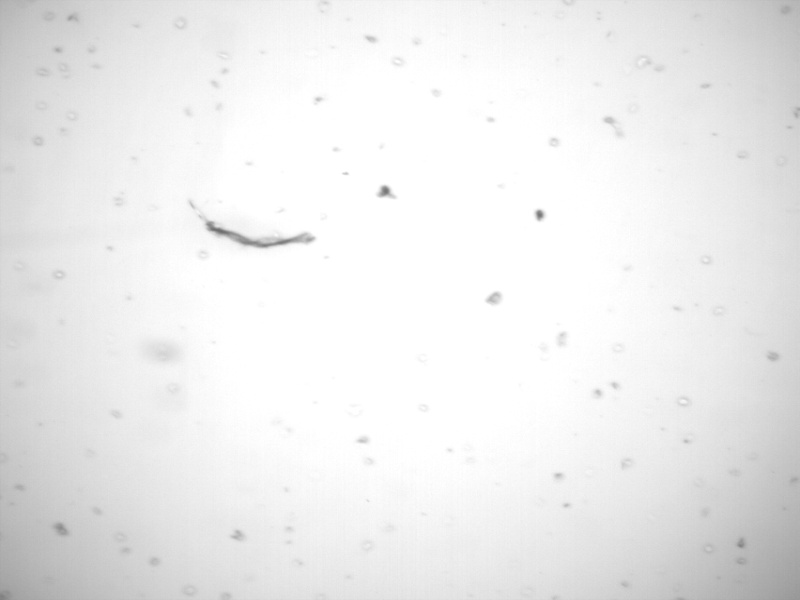fiber: (185, 196, 319, 250)
